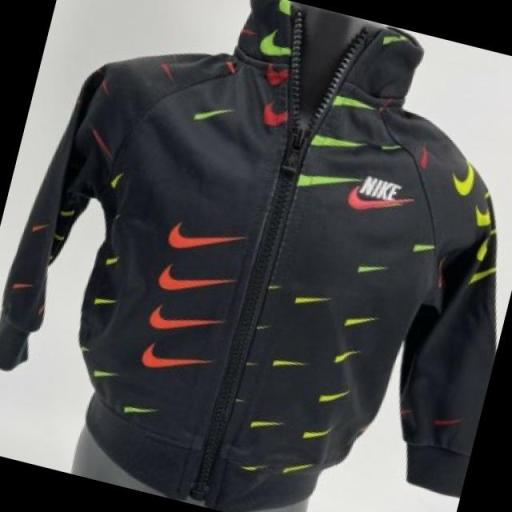Nike: (159, 213, 248, 268)
